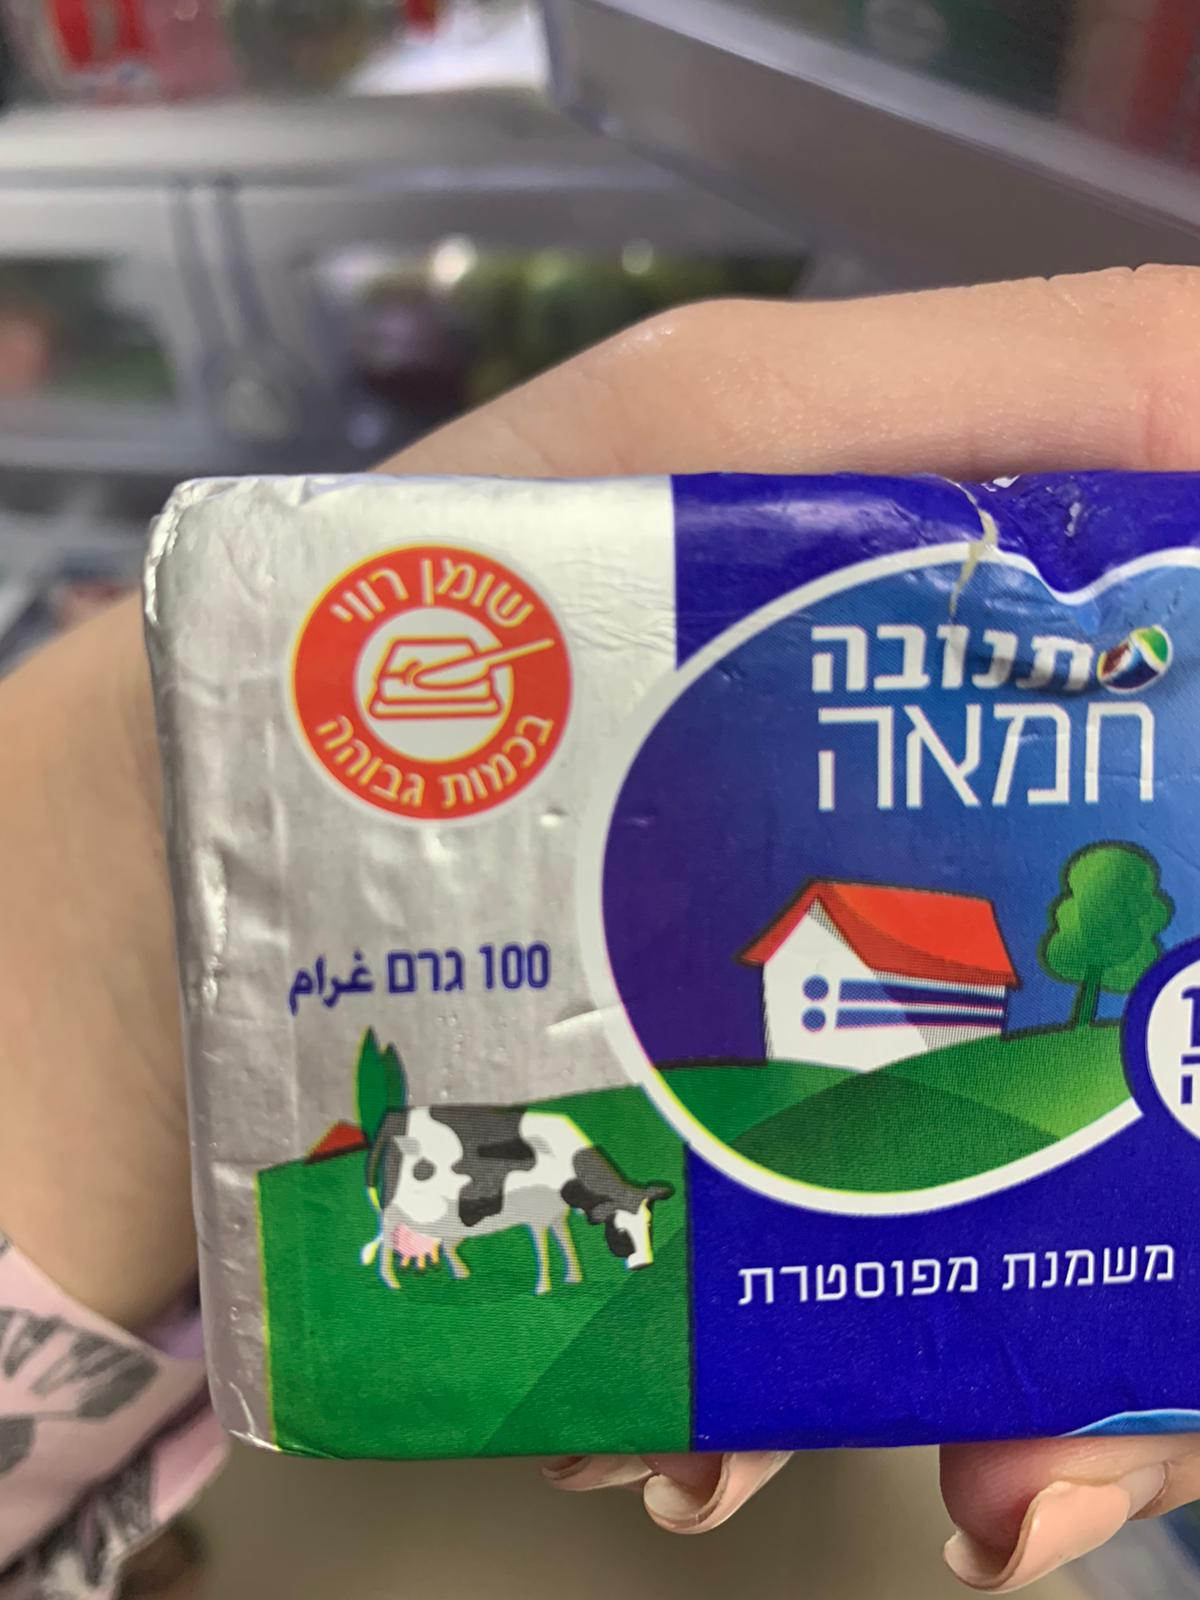fat: (281, 538, 582, 831)
